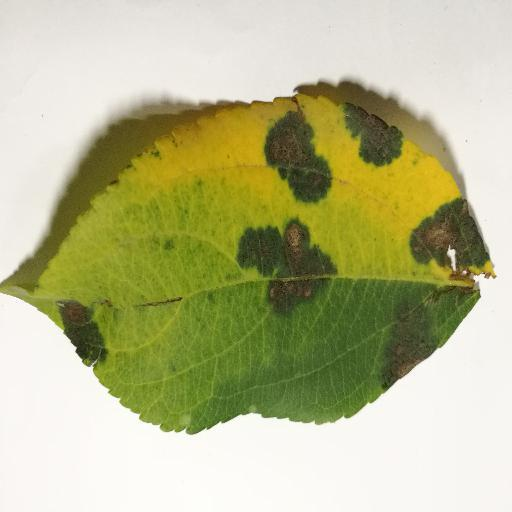Brown_Spot: (408, 189, 495, 279), (241, 228, 319, 304), (380, 308, 441, 389), (268, 120, 324, 198), (58, 301, 106, 365), (347, 103, 393, 169)
